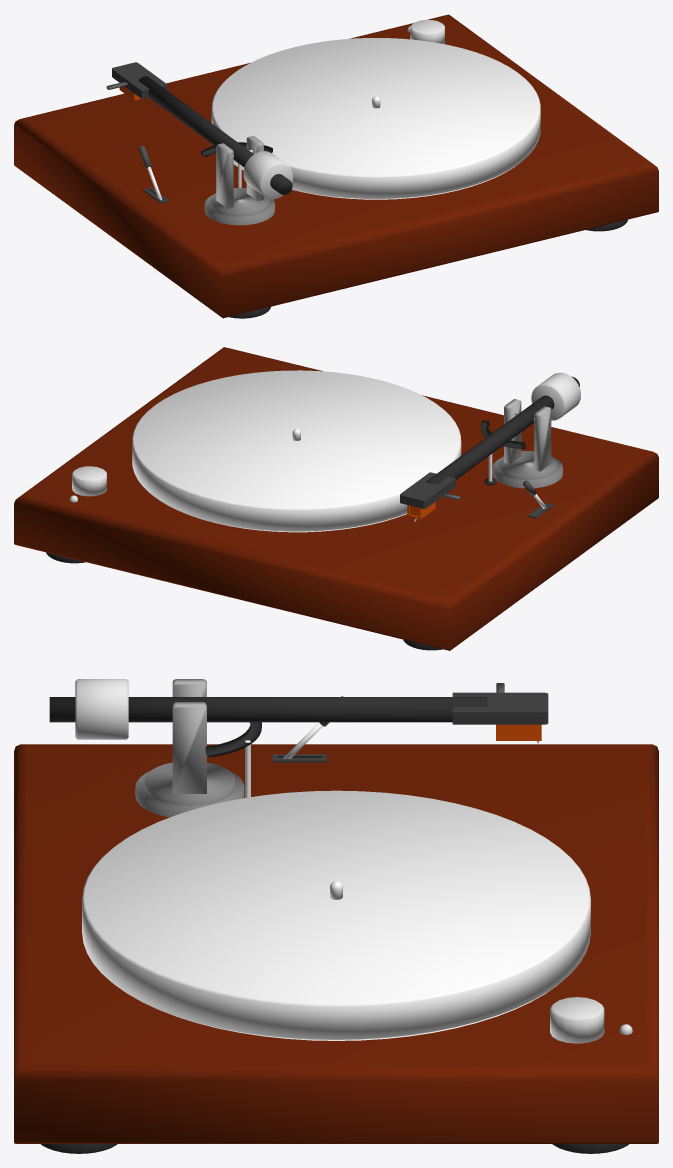
The model's file is turntable.glb.
3 views of the same model, one above another, from view 1: azimuth 30°, elevation 25°; view 2: azimuth 150°, elevation 25°; view 3: azimuth 270°, elevation 25° (orthographic). The views are drawn at different scales.
Visible parts, largest first — view 1: Deck, Platter, Arm, Weight, ArmSupport2, ArmBase, Head, ArmDisc, Switch; view 2: Deck, Platter, Arm, Weight, Head, ArmSupport2, ArmBase, Switch, ArmDisc, ArmSupport1; view 3: Deck, Platter, Arm, Weight, ArmSupport1, Head, Switch, ArmBase, ArmDisc, SupportBar, Cartridge.
Part boxes in pixels (left/top/right/bottom): Deck: left=14, top=14, right=658, bottom=318; Platter: left=211, top=38, right=540, bottom=199; Arm: left=138, top=76, right=292, bottom=194; Weight: left=243, top=151, right=293, bottom=199; ArmSupport2: left=216, top=143, right=233, bottom=208; ArmBase: left=210, top=187, right=269, bottom=216; Head: left=112, top=62, right=167, bottom=98; ArmDisc: left=204, top=195, right=274, bottom=225; Switch: left=410, top=19, right=444, bottom=44; Deck: left=14, top=347, right=658, bottom=650; Platter: left=132, top=370, right=461, bottom=532; Arm: left=426, top=376, right=579, bottom=484; Weight: left=531, top=372, right=580, bottom=420; Head: left=400, top=472, right=455, bottom=508; ArmSupport2: left=534, top=406, right=551, bottom=471; ArmBase: left=498, top=451, right=557, bottom=479; Switch: left=72, top=466, right=106, bottom=496; ArmDisc: left=492, top=458, right=562, bottom=488; ArmSupport1: left=504, top=399, right=521, bottom=464; Deck: left=14, top=744, right=658, bottom=1143; Platter: left=82, top=790, right=590, bottom=1040; Arm: left=49, top=697, right=487, bottom=722; Weight: left=75, top=679, right=128, bottom=739; ArmSupport1: left=172, top=702, right=206, bottom=793; Head: left=452, top=692, right=548, bottom=724; Switch: left=550, top=997, right=604, bottom=1043; ArmBase: left=144, top=762, right=235, bottom=805; ArmDisc: left=135, top=771, right=244, bottom=817; SupportBar: left=205, top=722, right=261, bottom=757; Cartridge: left=496, top=724, right=541, bottom=740.
Size of the model in its own units: 4.29 by 1.27 by 3.55.
